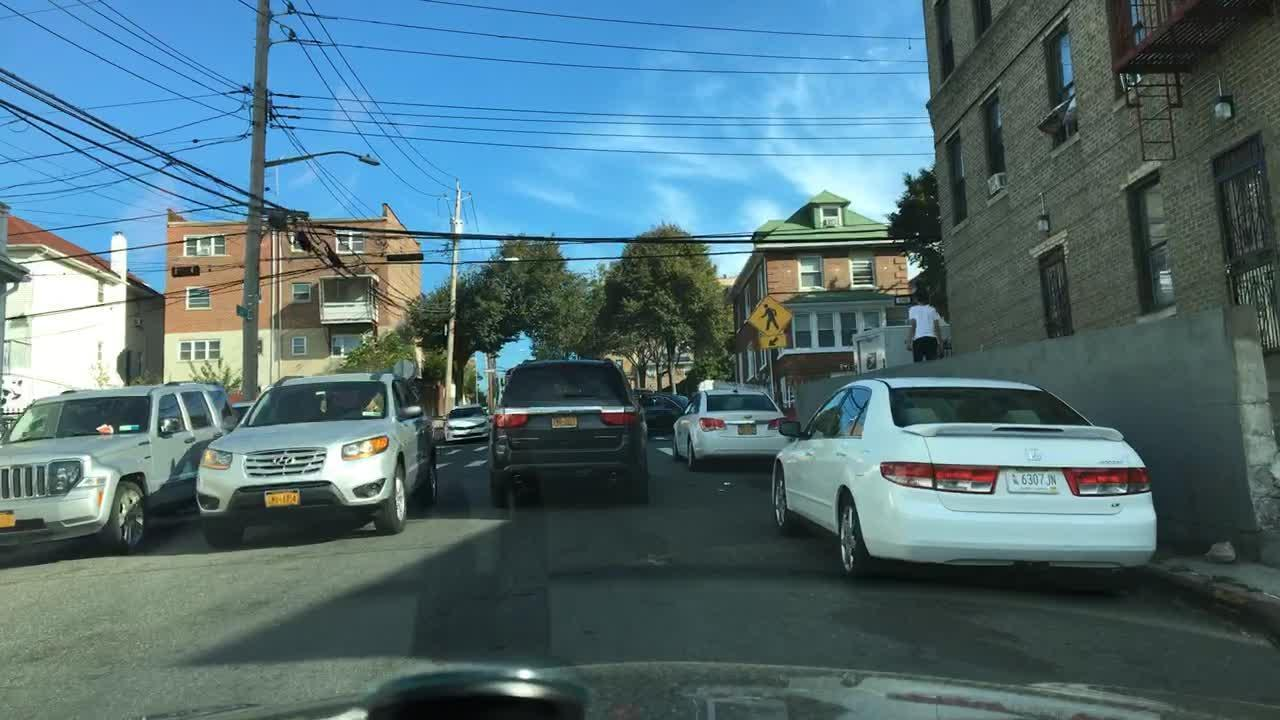Hyundai: (273, 452, 294, 470)
